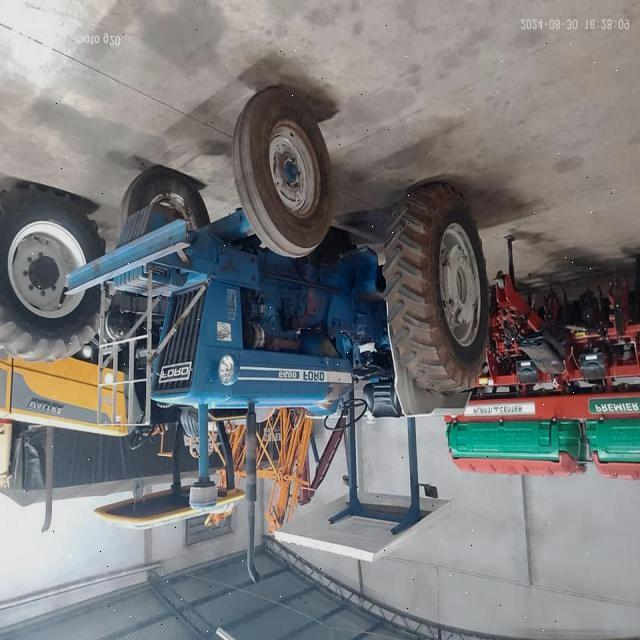Tratores - v5 YOLO V8L 2024-11-13: (75, 86, 492, 583), (1, 190, 249, 534)
